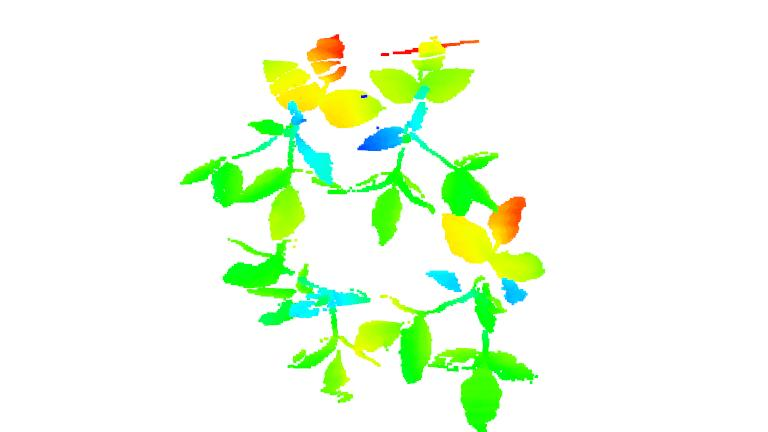mungbean: (352, 194, 548, 432), (178, 26, 370, 239), (220, 233, 402, 406), (360, 36, 498, 248)
